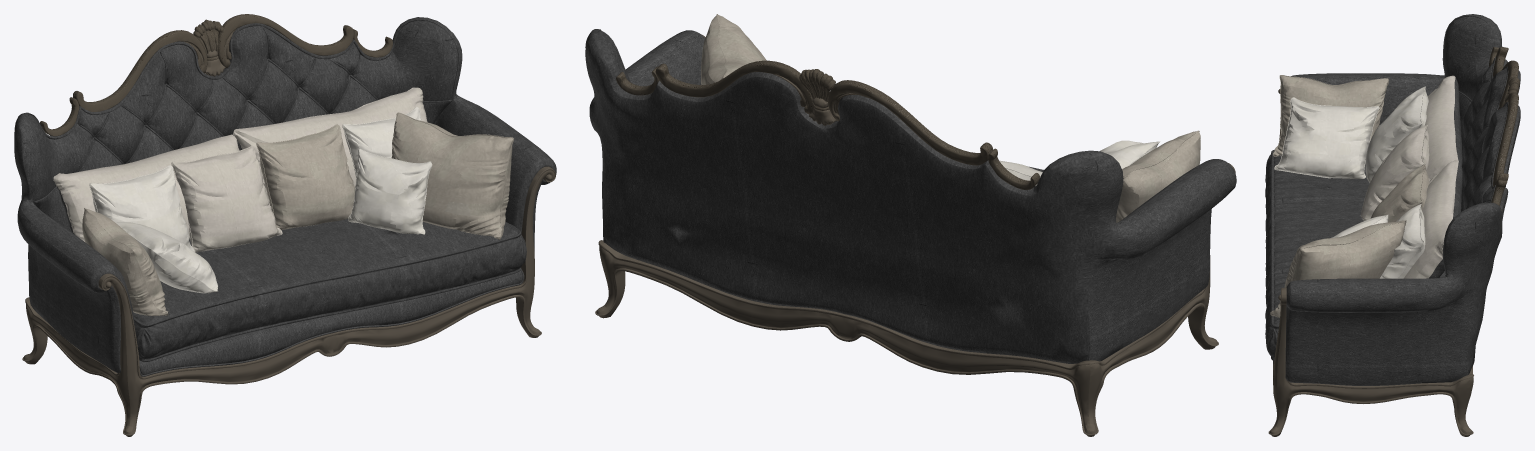
The model's file is sofa.glb.
3 views of the same model, side by side, from view 1: azimuth 30°, elevation 25°; view 2: azimuth 150°, elevation 25°; view 3: azimuth 270°, elevation 25° (orthographic). The views are drawn at different scales.
Bounding box in the file's own units: 1915 × 1066 × 938.
5 materials, 5 textured.
